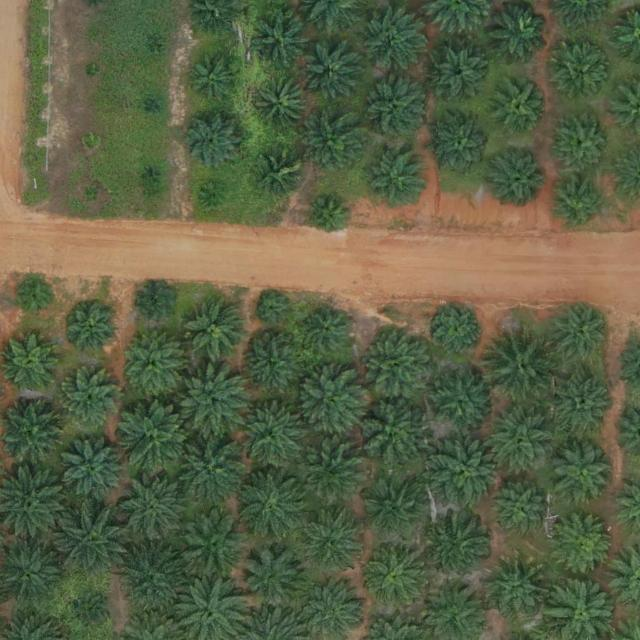Kelapa_Sawit: (53, 502, 131, 580), (116, 397, 194, 475), (113, 540, 191, 618), (168, 427, 246, 505), (231, 398, 309, 476), (233, 466, 311, 544), (358, 324, 436, 402), (351, 394, 429, 472), (426, 434, 504, 512), (483, 325, 561, 403), (480, 402, 558, 480), (176, 105, 246, 175), (58, 435, 128, 505), (115, 470, 185, 540), (177, 365, 247, 435), (177, 510, 247, 580), (237, 545, 307, 615), (295, 367, 365, 437), (295, 437, 365, 507), (175, 573, 246, 639), (0, 459, 60, 536), (301, 573, 364, 640), (544, 579, 613, 640), (417, 579, 484, 639), (248, 7, 310, 70), (302, 111, 364, 174), (361, 77, 423, 140), (364, 146, 426, 209), (56, 368, 118, 431), (121, 331, 183, 394), (184, 299, 246, 362), (239, 333, 301, 396), (364, 479, 426, 542), (364, 542, 426, 605), (431, 514, 493, 577), (488, 556, 550, 619), (486, 0, 548, 62), (361, 9, 423, 71), (430, 114, 492, 176), (488, 145, 550, 207), (552, 112, 614, 174), (430, 369, 492, 431), (549, 302, 611, 364), (551, 374, 613, 436), (551, 441, 613, 503), (552, 514, 614, 576), (0, 538, 58, 603), (0, 396, 60, 457), (188, 50, 243, 105), (429, 46, 484, 101), (254, 78, 309, 133), (3, 334, 58, 389), (65, 302, 120, 357), (303, 514, 358, 569), (553, 47, 607, 102), (304, 48, 358, 103), (493, 78, 547, 133), (552, 176, 606, 231), (493, 483, 547, 538), (434, 305, 480, 352), (259, 151, 305, 197), (304, 307, 350, 353), (187, 0, 237, 40), (309, 193, 348, 232), (72, 594, 111, 633), (135, 283, 174, 322), (16, 279, 54, 318), (257, 294, 288, 325), (202, 182, 225, 205), (142, 34, 164, 55), (138, 163, 159, 184), (80, 129, 99, 149), (143, 93, 160, 114), (83, 60, 101, 79), (81, 183, 99, 201)
